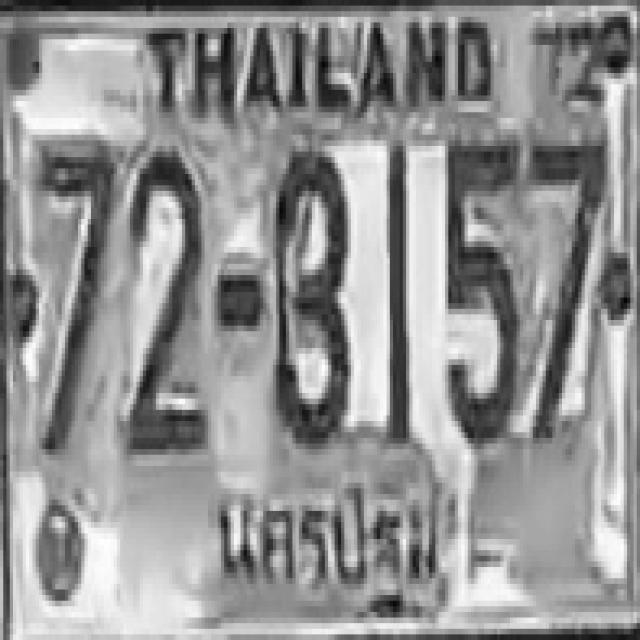1: (382, 140, 408, 444)
2: (123, 146, 204, 449)
3: (272, 143, 350, 441)
5: (442, 132, 520, 441)
7: (36, 137, 117, 452), (530, 132, 608, 441)
NakhonPathom: (212, 473, 448, 622)
